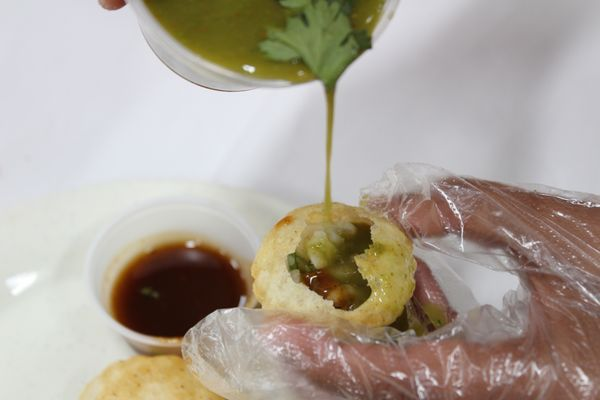pizza: (82, 199, 258, 356)
sushi: (82, 199, 257, 357)
